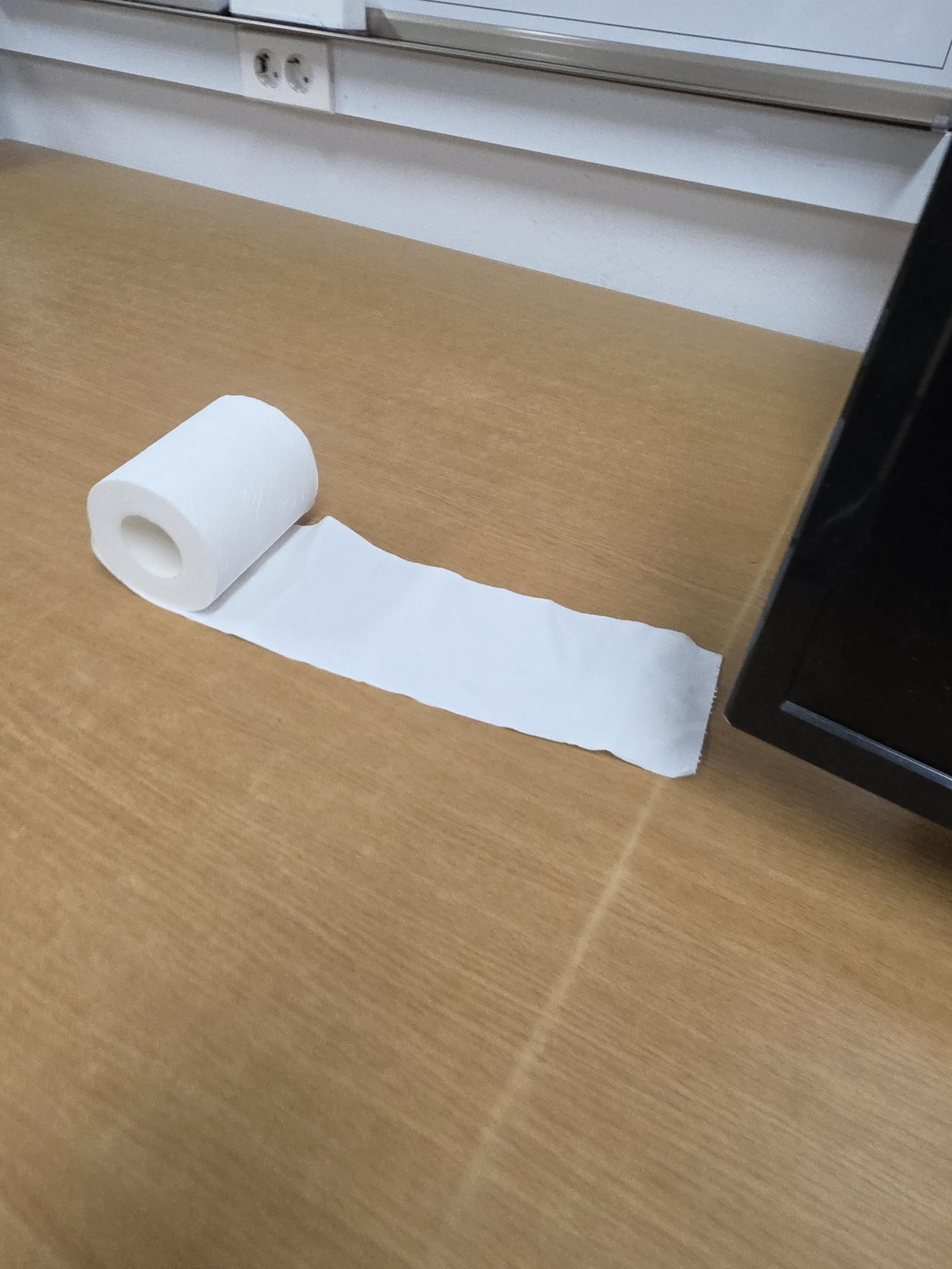tissue: (87, 395, 723, 778)
